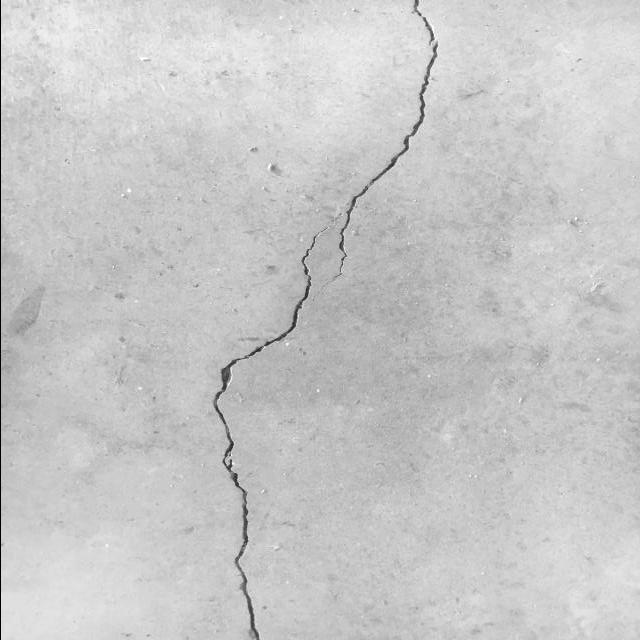SurfaceCrack: (189, 0, 469, 639)
